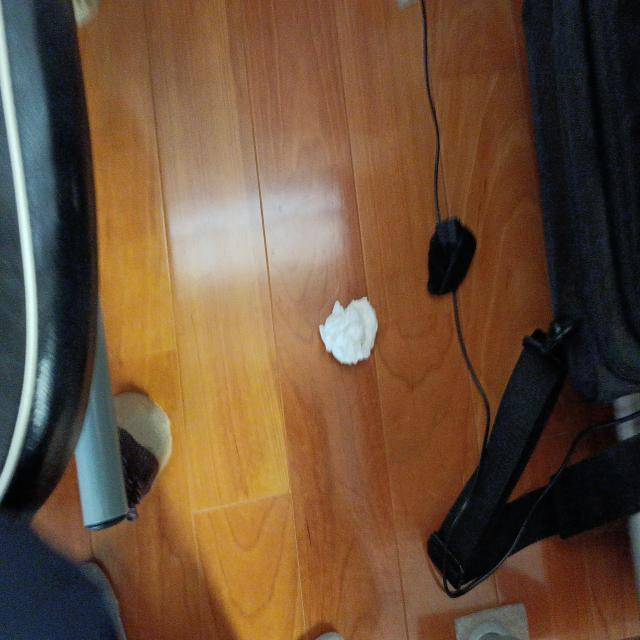Paper: (313, 282, 397, 384)
